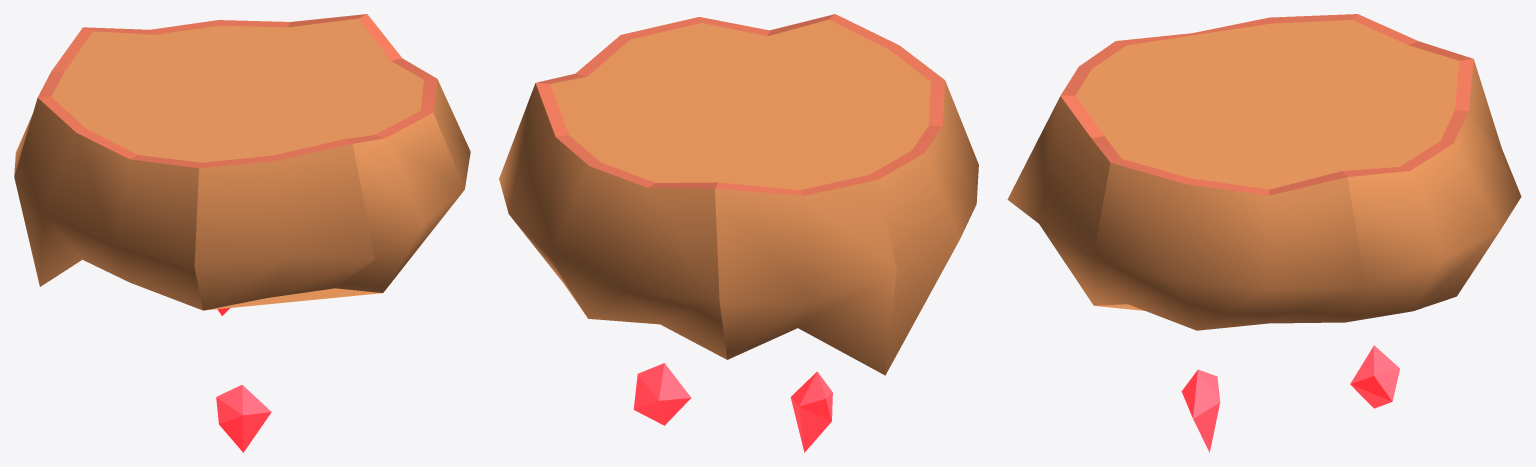
File: rock_platform.glb
3 views of the same model, side by side, from view 1: azimuth 30°, elevation 25°; view 2: azimuth 150°, elevation 25°; view 3: azimuth 270°, elevation 25° (orthographic). The views are drawn at different scales.
Parts seen in each view (by area): view 1: Cylinder, Icosphere.001; view 2: Cylinder, Icosphere, Icosphere.001; view 3: Cylinder, Icosphere, Icosphere.001.
Part boxes in pixels (x1,y1,x2,y2): Cylinder: (14,14,470,310); Icosphere.001: (216,385,271,452); Cylinder: (499,14,978,375); Icosphere: (633,363,691,425); Icosphere.001: (790,371,832,452); Cylinder: (1007,14,1521,330); Icosphere: (1350,345,1399,408); Icosphere.001: (1181,369,1220,452).
Size of the model in its own units: 7.49 by 6.28 by 7.74.
